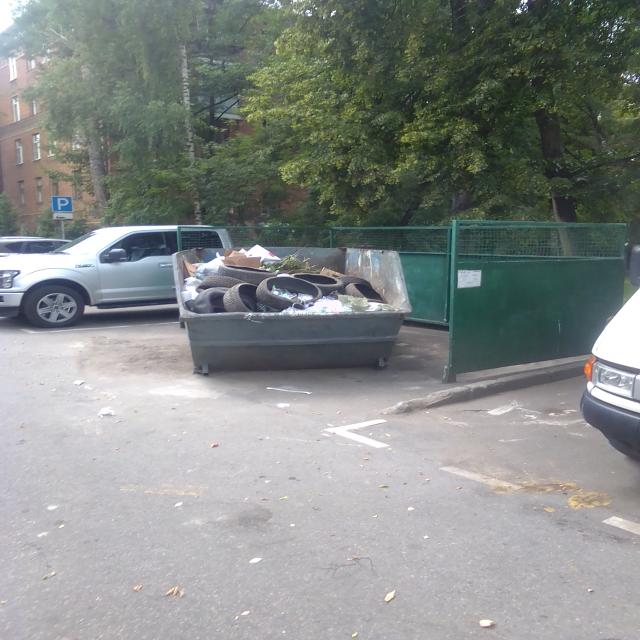bin: (153, 236, 425, 380)
